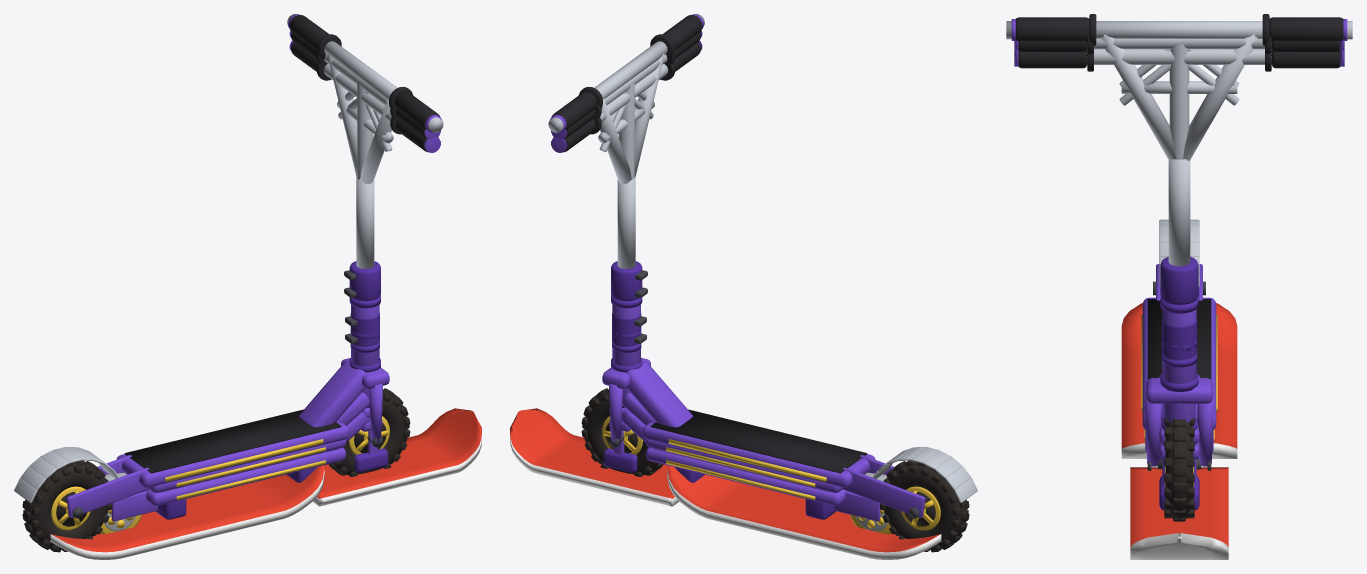
Rendered from scooter.glb.
The picture shows the model from 3 angles, left to right: view 1: azimuth 30°, elevation 25°; view 2: azimuth 150°, elevation 25°; view 3: azimuth 270°, elevation 25°; orthographic projection. The views are drawn at different scales.
Visible parts, largest first — view 1: dirtscoot_deck, dirtscoot_bars, snowscoot_deck, snowscoot_bars, scooter_deck, scooter_bars; view 2: dirtscoot_deck, dirtscoot_bars, snowscoot_deck, snowscoot_bars, scooter_deck, scooter_bars; view 3: dirtscoot_bars, snowscoot_bars, scooter_bars, snowscoot_deck, dirtscoot_deck, scooter_deck.
Boxes of the visible parts, x1=… form: dirtscoot_deck: x1=14, y1=295, x2=380, y2=552; dirtscoot_bars: x1=287, y1=14, x2=443, y2=476; snowscoot_deck: x1=50, y1=330, x2=377, y2=559; snowscoot_bars: x1=289, y1=31, x2=481, y2=506; scooter_deck: x1=100, y1=340, x2=379, y2=534; scooter_bars: x1=289, y1=40, x2=440, y2=453; dirtscoot_deck: x1=611, y1=295, x2=977, y2=552; dirtscoot_bars: x1=548, y1=14, x2=704, y2=476; snowscoot_deck: x1=614, y1=330, x2=941, y2=559; snowscoot_bars: x1=510, y1=31, x2=702, y2=506; scooter_deck: x1=612, y1=340, x2=891, y2=534; scooter_bars: x1=551, y1=40, x2=702, y2=454; dirtscoot_bars: x1=1006, y1=14, x2=1352, y2=521; snowscoot_bars: x1=1014, y1=36, x2=1344, y2=559; scooter_bars: x1=1014, y1=49, x2=1344, y2=486; snowscoot_deck: x1=1121, y1=303, x2=1237, y2=458; dirtscoot_deck: x1=1141, y1=219, x2=1217, y2=429; scooter_deck: x1=1144, y1=353, x2=1214, y2=452.
Size of the model in its own units: 1.09 by 0.96 by 0.6.
